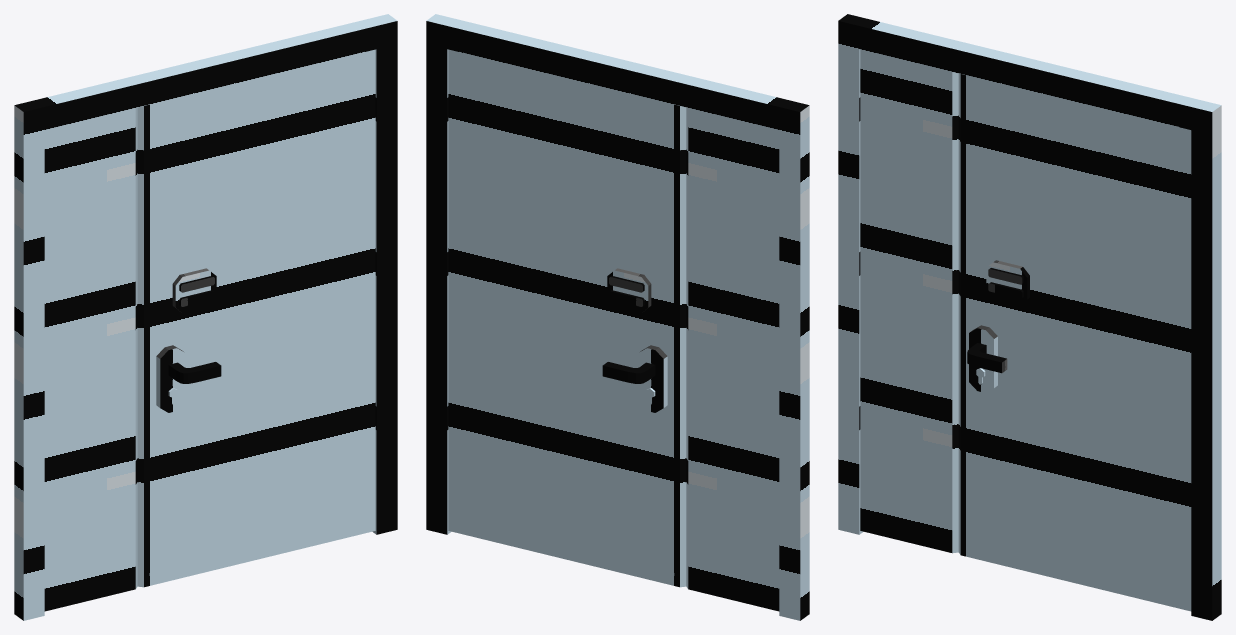
Rendered from Door.fbx.
The picture shows the model from 3 angles, left to right: view 1: azimuth 30°, elevation 25°; view 2: azimuth 150°, elevation 25°; view 3: azimuth 330°, elevation 25°; orthographic projection.
Parts seen in each view (by area): view 1: Cube.015, Cube.016, Cube.019, Cube.017, Cube.018, Plane.003; view 2: Cube.015, Cube.016, Cube.019, Cube.017, Cube.018, Plane.003; view 3: Cube.015, Cube.016, Cube.019, Cube.017, Cube.018, Plane.003.
Part boxes in pixels (left/top/right/bottom): Cube.015: left=137, top=49, right=375, bottom=587; Cube.016: left=44, top=107, right=137, bottom=611; Cube.019: left=14, top=14, right=397, bottom=620; Cube.017: left=156, top=345, right=185, bottom=412; Cube.018: left=172, top=268, right=216, bottom=313; Plane.003: left=168, top=362, right=221, bottom=383; Cube.015: left=448, top=49, right=686, bottom=587; Cube.016: left=686, top=107, right=779, bottom=611; Cube.019: left=426, top=14, right=809, bottom=620; Cube.017: left=638, top=345, right=667, bottom=412; Cube.018: left=607, top=268, right=651, bottom=313; Plane.003: left=602, top=362, right=655, bottom=383; Cube.015: left=958, top=73, right=1191, bottom=611; Cube.016: left=860, top=49, right=958, bottom=553; Cube.019: left=838, top=14, right=1221, bottom=620; Cube.017: left=969, top=325, right=997, bottom=392; Cube.018: left=986, top=260, right=1029, bottom=304; Plane.003: left=967, top=343, right=1007, bottom=373.
Size of the model in its own units: 206 by 268 by 41.36.
